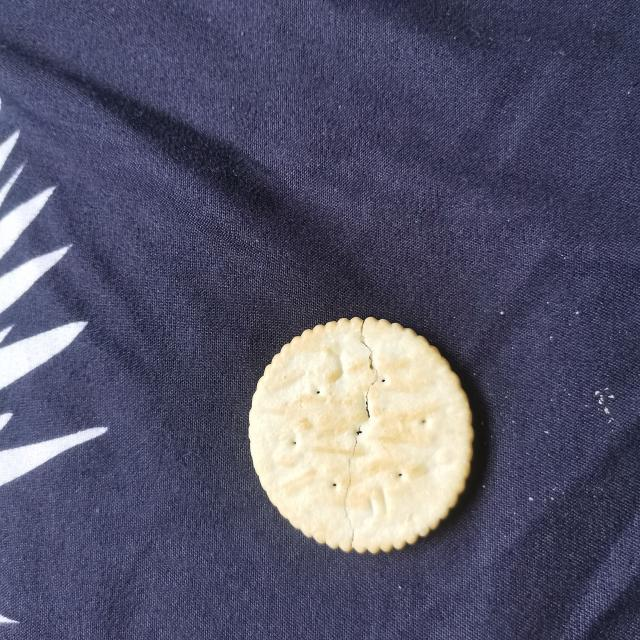Fracture: (339, 317, 381, 551)
